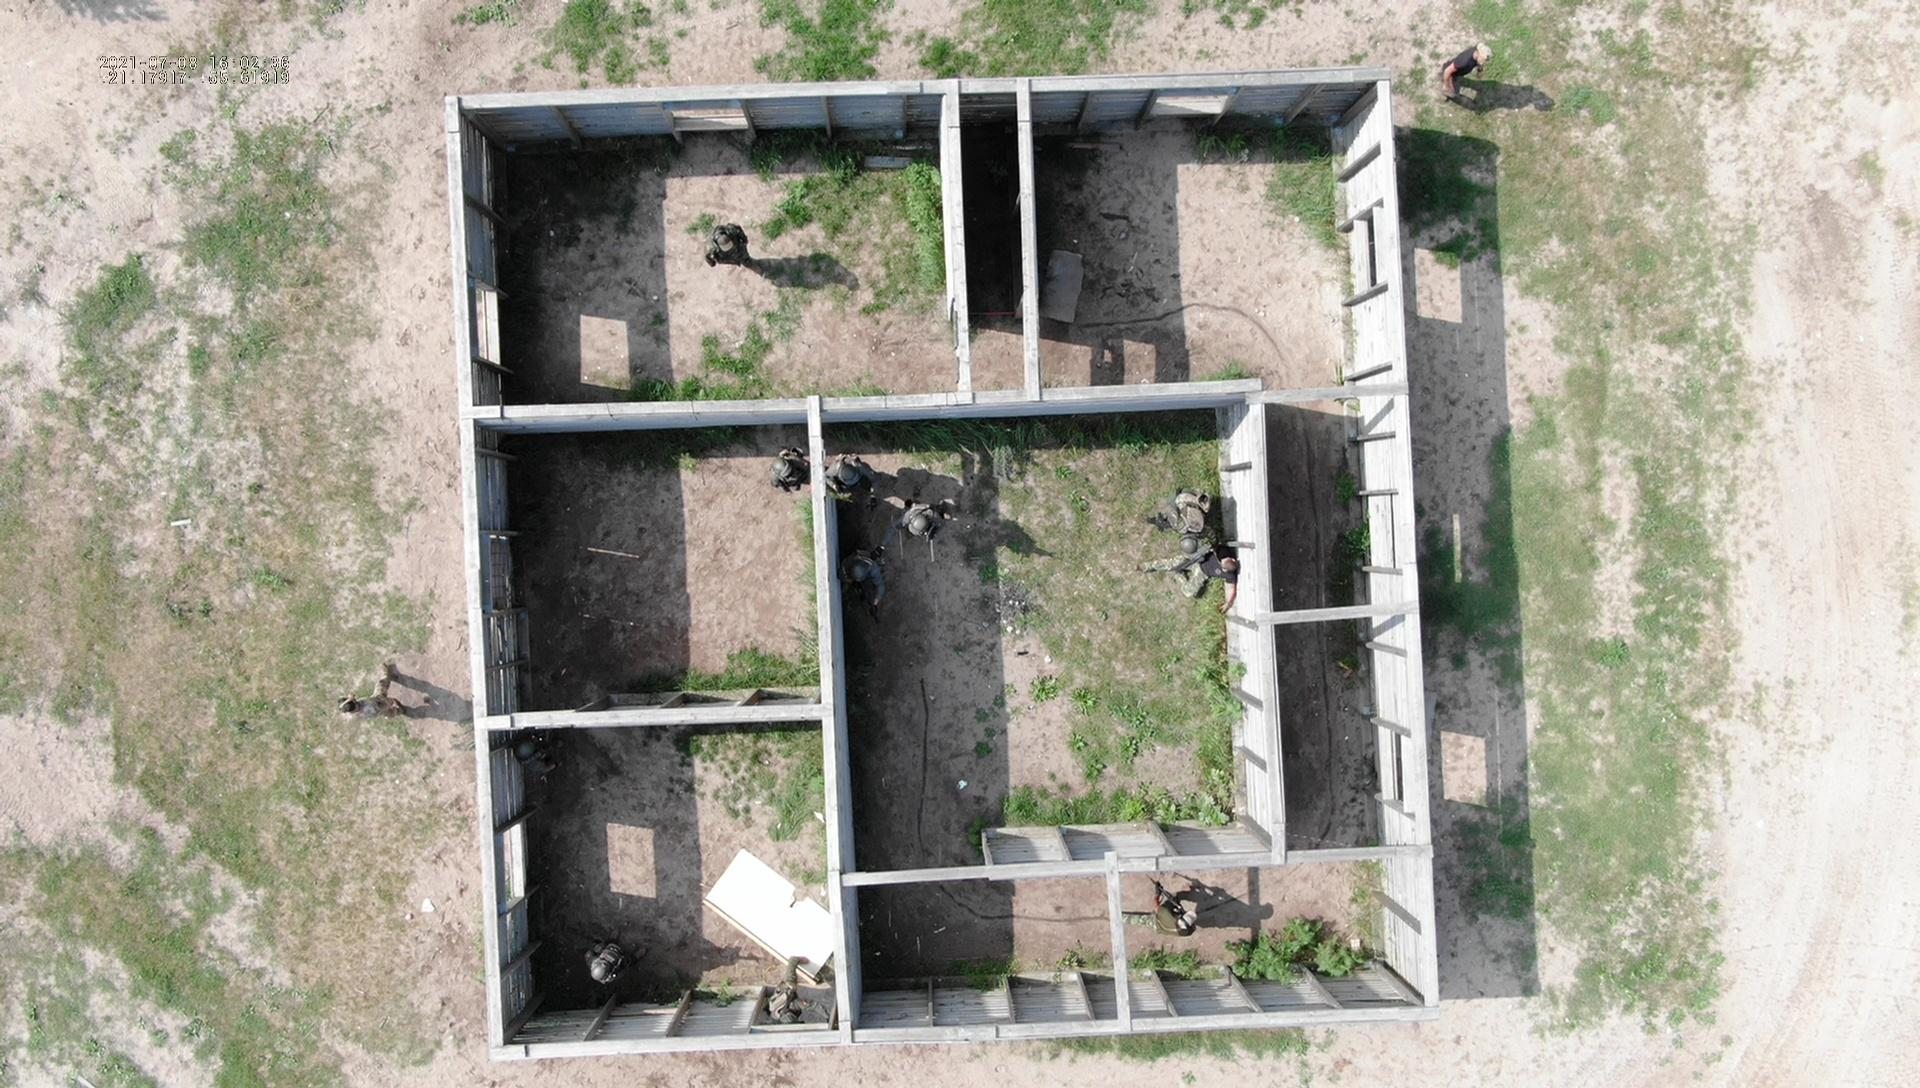Soldier: (1142, 535, 1245, 620), (584, 935, 680, 1009), (1149, 467, 1222, 555), (336, 665, 422, 740), (754, 948, 827, 1033), (1131, 878, 1207, 953), (840, 553, 897, 638), (748, 446, 819, 508), (694, 214, 753, 285), (835, 469, 898, 535), (881, 466, 940, 528)
